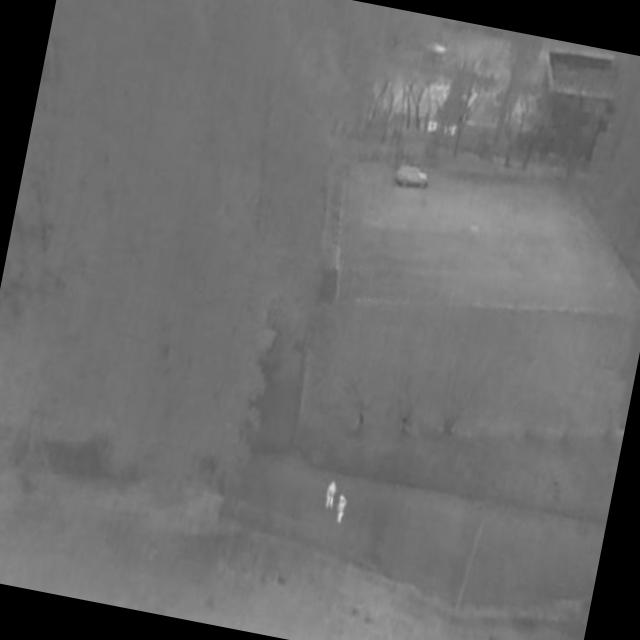person: (333, 493, 350, 528), (323, 480, 340, 512)
